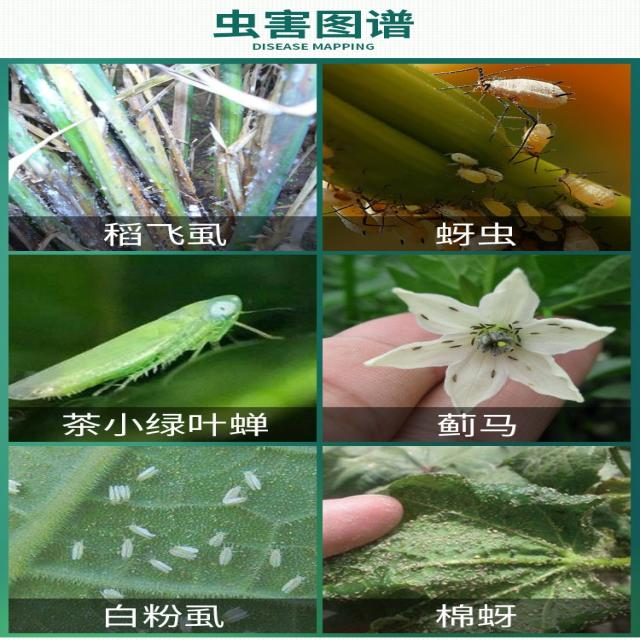Yechan: (11, 291, 280, 404)
